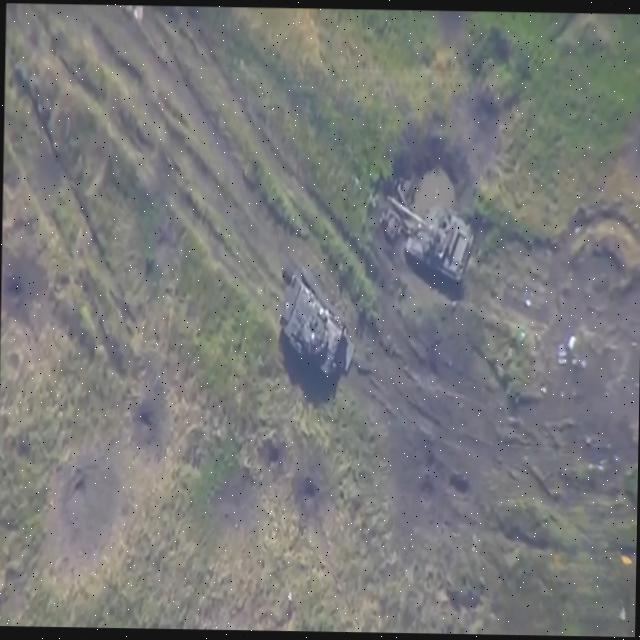AIFV: (278, 268, 358, 385)
MBT: (384, 169, 478, 285)
